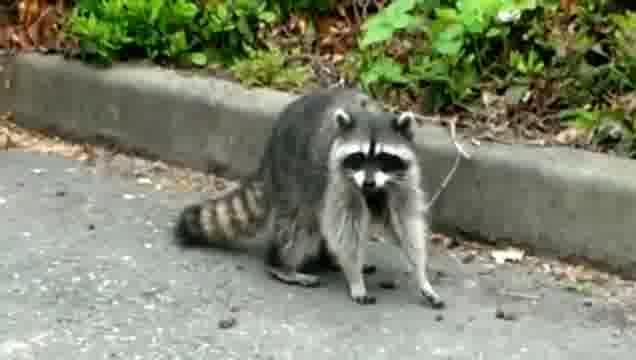raccoon: (173, 87, 448, 312)
